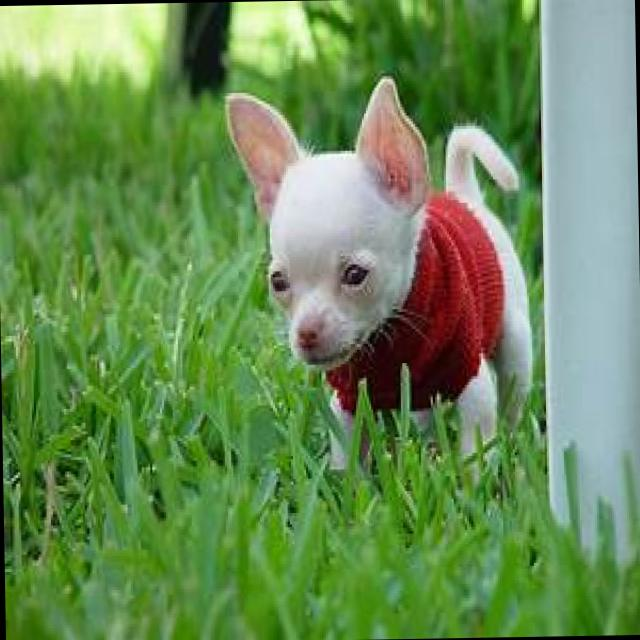dog: (222, 82, 536, 476)
